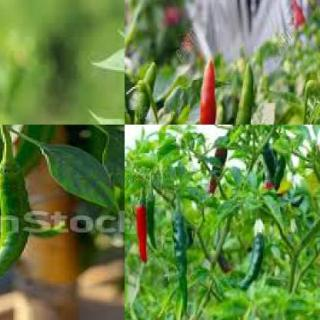green_chilli: (0, 124, 65, 202), (0, 162, 30, 299), (168, 210, 191, 318), (235, 229, 270, 288), (131, 58, 161, 124), (233, 60, 257, 124), (147, 194, 158, 252), (273, 156, 291, 189), (260, 148, 276, 182), (0, 134, 5, 208)
